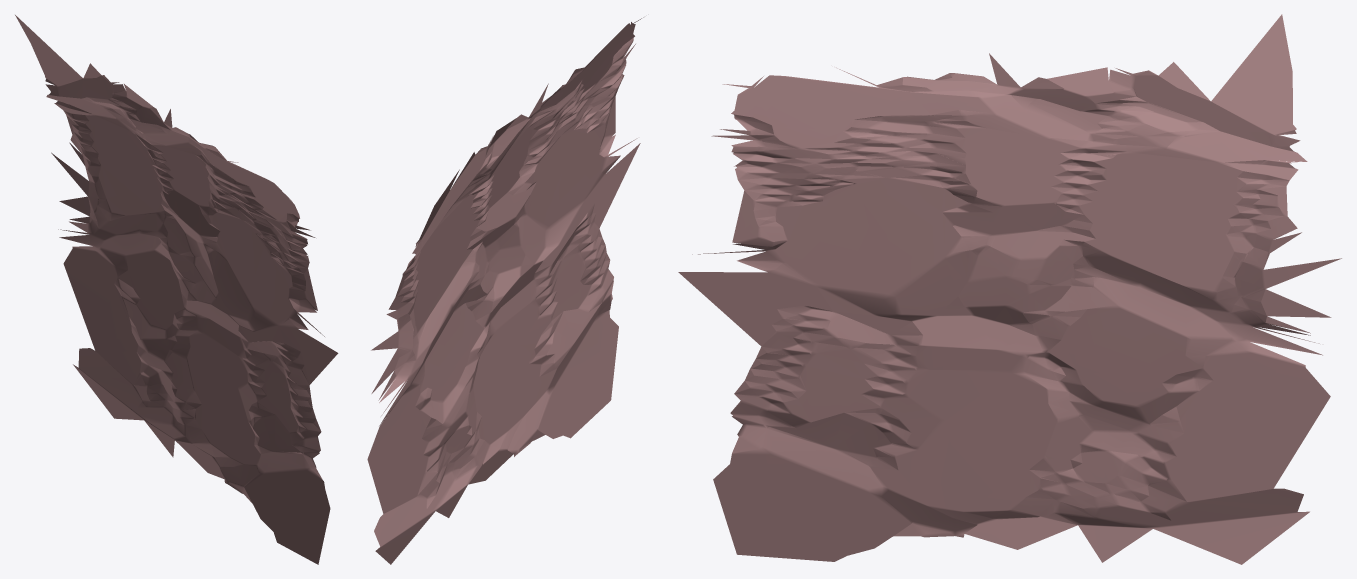
The model's file is plateau.fbx_Rock_Plateau_028LODs.fbx.
The picture shows the model from 3 angles, left to right: view 1: azimuth 30°, elevation 25°; view 2: azimuth 150°, elevation 25°; view 3: azimuth 270°, elevation 25°; orthographic projection. The views are drawn at different scales.
Visible parts, largest first — view 1: Rock Plateau.028_LOD0; view 2: Rock Plateau.028_LOD0; view 3: Rock Plateau.028_LOD0.
Boxes of the visible parts, left/top/right/bottom form: Rock Plateau.028_LOD0: left=15, top=15, right=338, bottom=564; Rock Plateau.028_LOD0: left=367, top=17, right=643, bottom=564; Rock Plateau.028_LOD0: left=678, top=14, right=1341, bottom=564.
Size of what is drawn, in the model's own units: 620 by 2883 by 3463.
